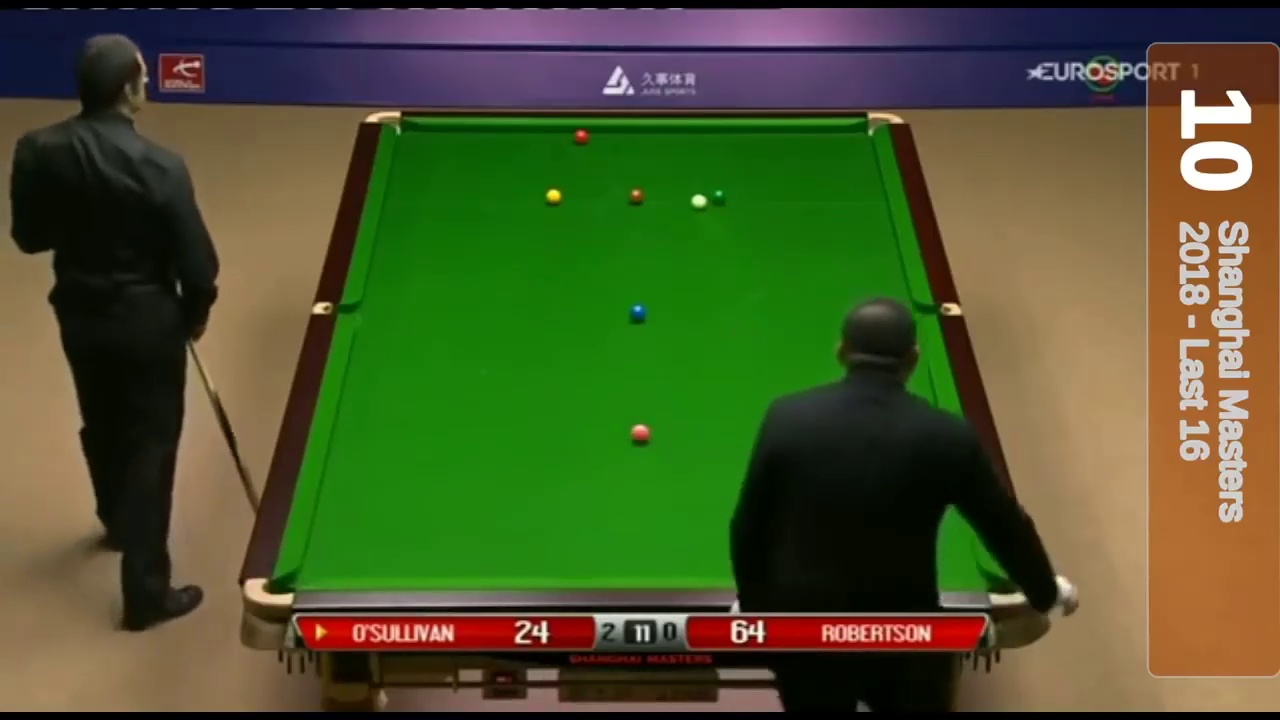ball: (629, 423, 652, 447), (629, 300, 652, 322), (623, 188, 648, 206), (545, 185, 565, 204), (572, 128, 589, 145), (711, 191, 726, 205)
